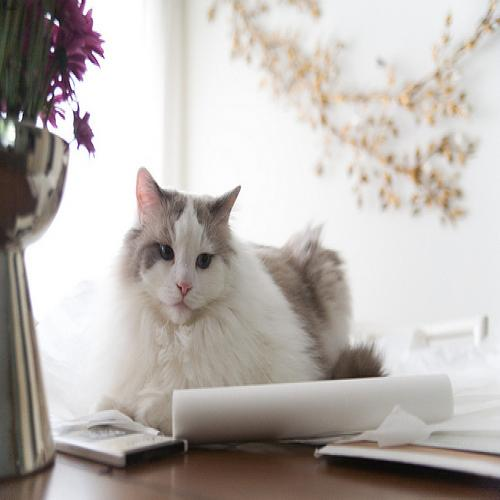ragdoll: (118, 164, 251, 321)
